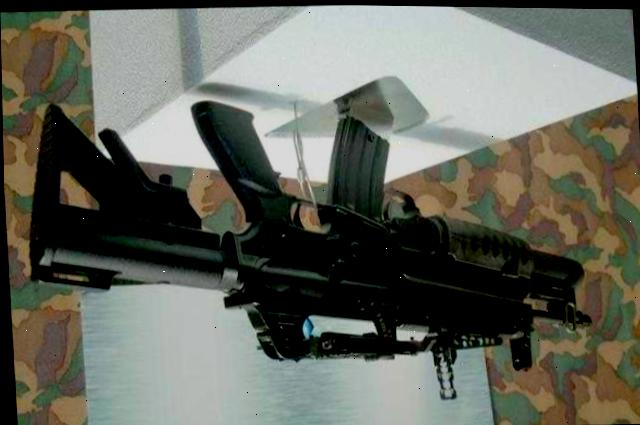rifle: (1, 46, 599, 400)
